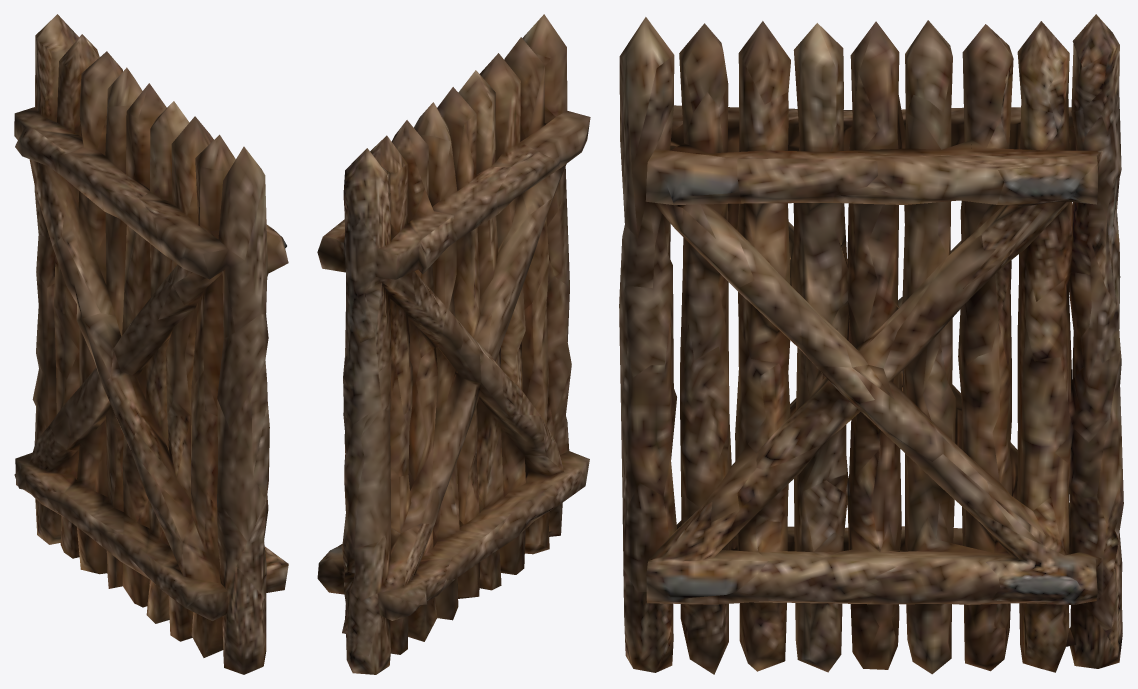
File: bb_gate_wood.fa15cbc02d.glb
3 renders of one model, left to right at view 1: azimuth 30°, elevation 25°; view 2: azimuth 150°, elevation 25°; view 3: azimuth 270°, elevation 25°, orthographic. The views are drawn at different scales.
Visible parts, largest first — view 1: bb_gate_wood; view 2: bb_gate_wood; view 3: bb_gate_wood.
Boxes of the visible parts, <box> form: bb_gate_wood: <box>14,14,288,674</box>; bb_gate_wood: <box>317,14,590,674</box>; bb_gate_wood: <box>619,14,1123,674</box>.
Size of the model in its own units: 1.12 by 5.1 by 3.6.
Materials: 1 (1 with a texture image).
